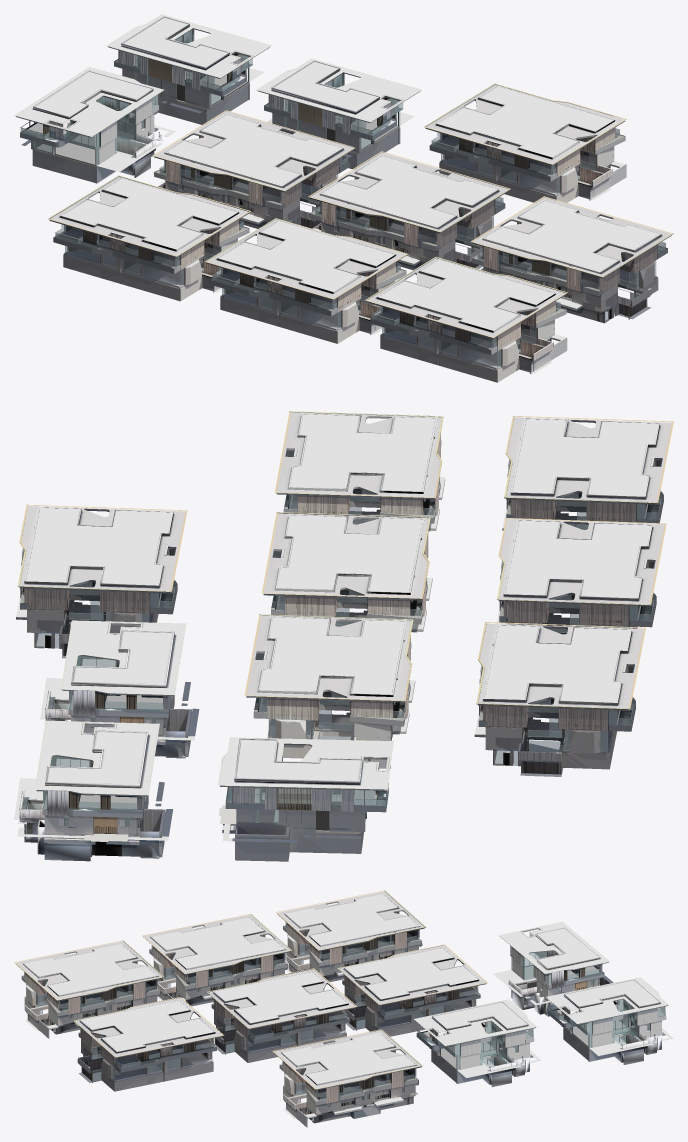
File: Elie Saab_build.glb
The picture shows the model from 3 angles, top to bottom: view 1: azimuth 30°, elevation 25°; view 2: azimuth 150°, elevation 25°; view 3: azimuth 270°, elevation 25°; orthographic projection. The views are drawn at different scales.
Parts seen in each view (by area): view 1: Elie Saab_build; view 2: Elie Saab_build; view 3: Elie Saab_build.
Boxes of the visible parts, <box> form: Elie Saab_build: <box>14,14,673,382</box>; Elie Saab_build: <box>14,411,673,861</box>; Elie Saab_build: <box>14,890,673,1127</box>.
Size of the model in its own units: 104 by 13.41 by 144.
Materials: 11 (7 with a texture image).
